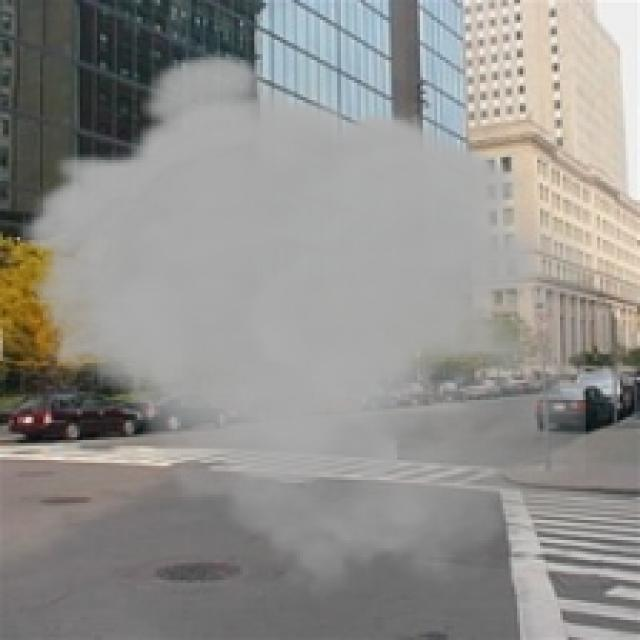Smoke: (17, 48, 586, 603)
